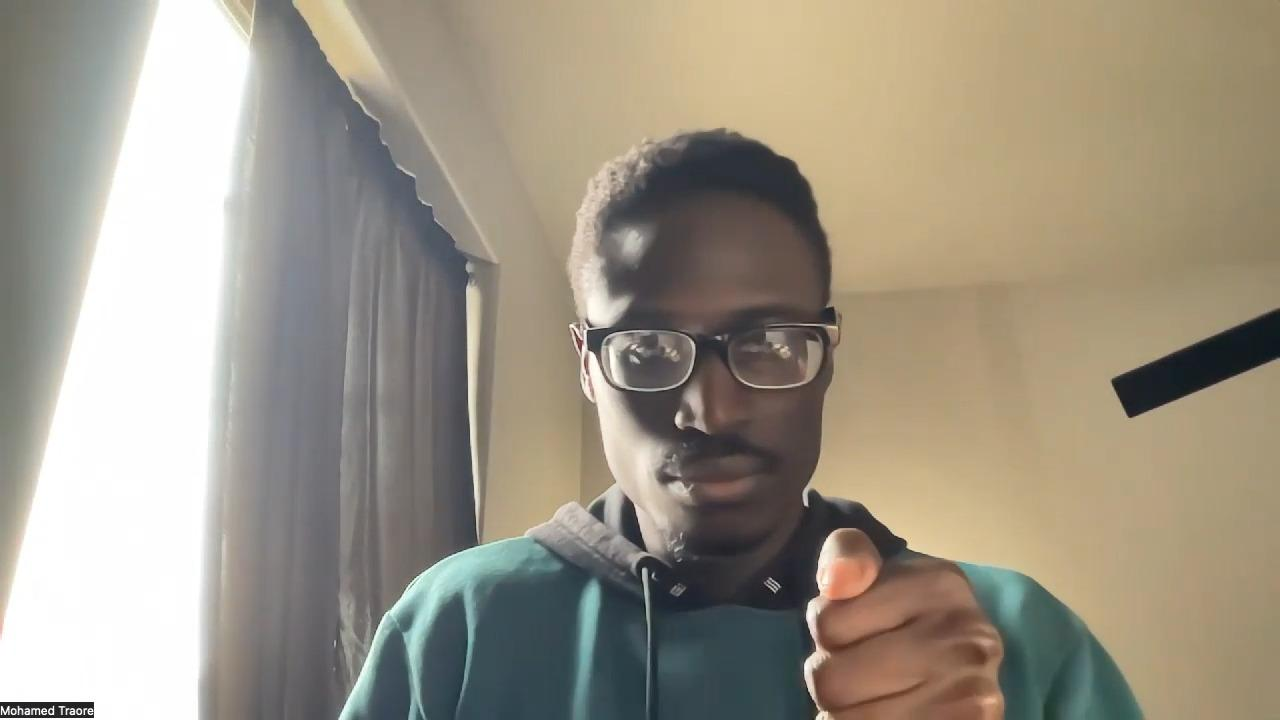Rock: (802, 527, 1005, 720)
